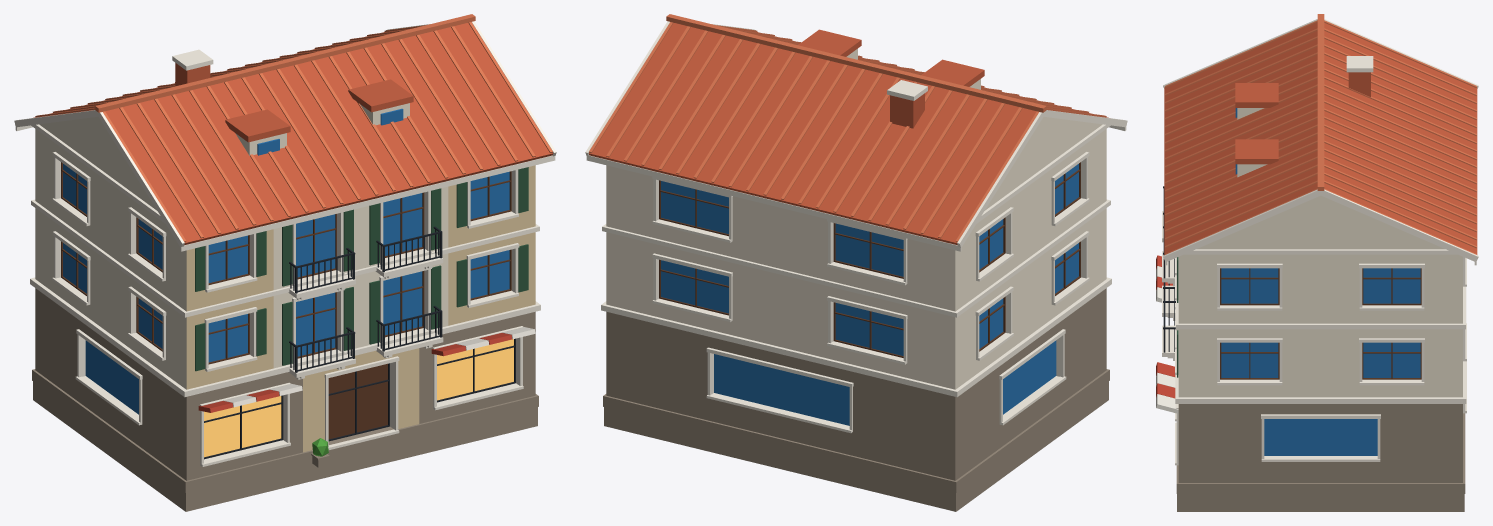
File: 07b_midrise_gabled-lod0.glb
3 renders of one model, left to right at view 1: azimuth 30°, elevation 25°; view 2: azimuth 150°, elevation 25°; view 3: azimuth 270°, elevation 25°, orthographic. The views are drawn at different scales.
Parts seen in each view (by area): view 1: MidriseGabled_LOD0; view 2: MidriseGabled_LOD0; view 3: MidriseGabled_LOD0.
Boxes of the visible parts, <box> form: MidriseGabled_LOD0: <box>14,14,556,511</box>; MidriseGabled_LOD0: <box>585,14,1127,511</box>; MidriseGabled_LOD0: <box>1156,14,1478,511</box>.
Size of the model in its own units: 14.68 by 13.3 by 11.58.
2 materials, 2 textured.
